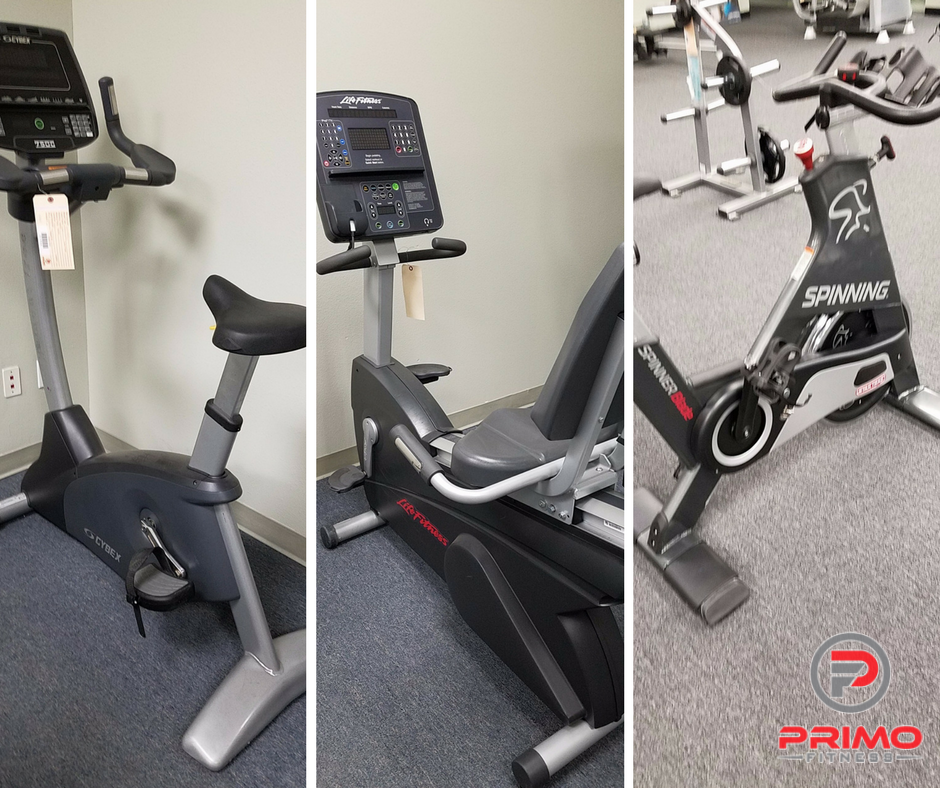gym_bike: (3, 21, 312, 762), (309, 74, 630, 772), (639, 45, 939, 629)
